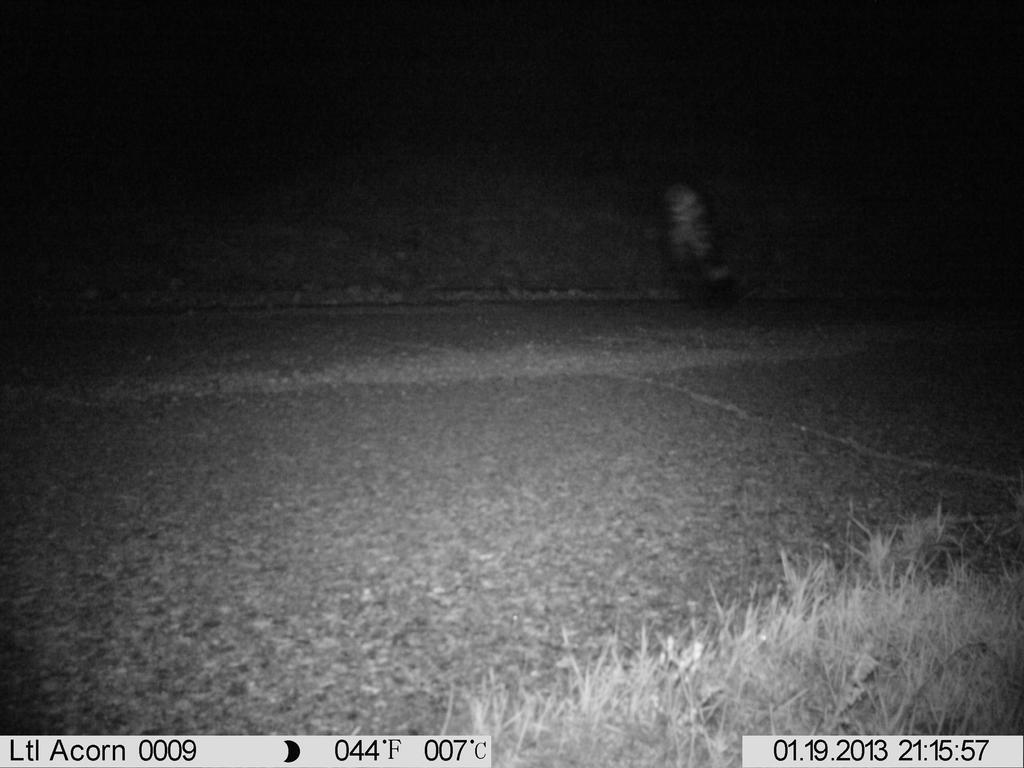skunk: (649, 171, 763, 324)
